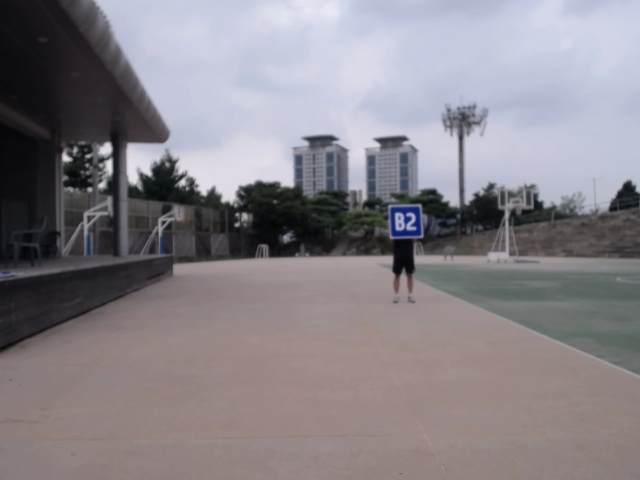delivery_b2: (388, 205, 424, 239)
